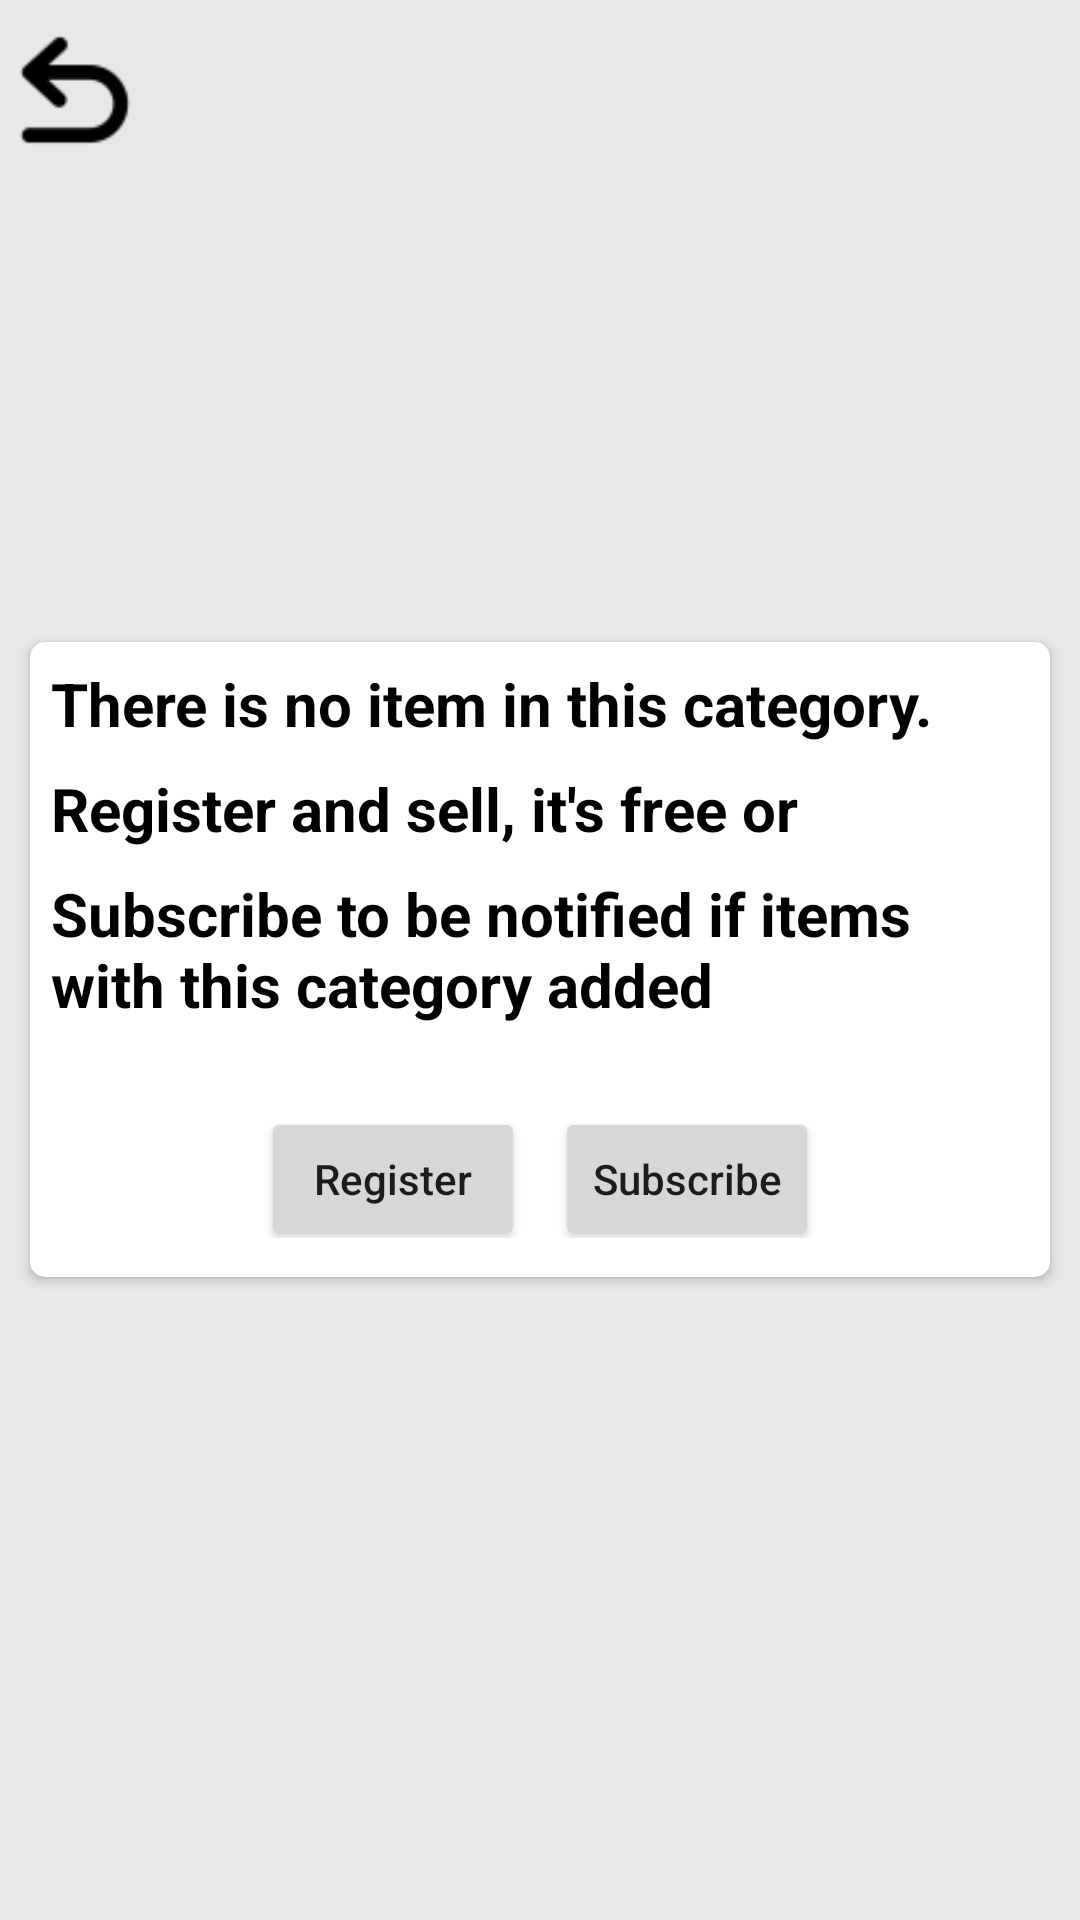

Icons on this 1080px×1920px Android screen, each with its box as (x1, y1, x2, y2):
back: (20, 36, 130, 144)
